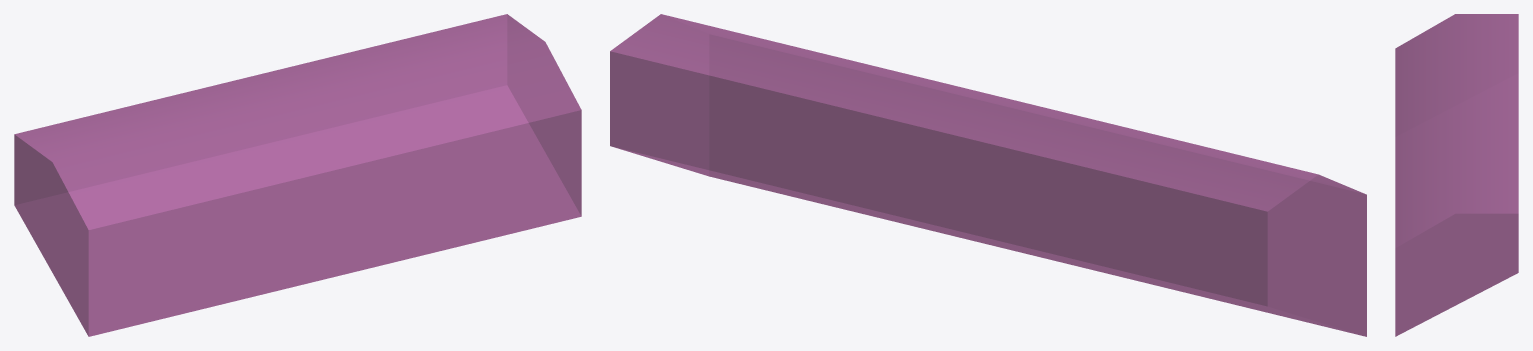
File: SM_Bld_Base_Stair_Quarter_01_Collision.fbx
3 renders of one model, left to right at view 1: azimuth 30°, elevation 25°; view 2: azimuth 150°, elevation 25°; view 3: azimuth 270°, elevation 25°, orthographic. The views are drawn at different scales.
Parts seen in each view (by area): view 1: SM_Bld_Base_Stair_Quarter_01_Collision; view 2: SM_Bld_Base_Stair_Quarter_01_Collision; view 3: SM_Bld_Base_Stair_Quarter_01_Collision.
Part boxes in pixels (<box>): SM_Bld_Base_Stair_Quarter_01_Collision: <box>14,14,581,336</box>; SM_Bld_Base_Stair_Quarter_01_Collision: <box>610,14,1366,336</box>; SM_Bld_Base_Stair_Quarter_01_Collision: <box>1395,14,1518,336</box>.
Size of the model in its own units: 255 by 73.31 by 66.6.
